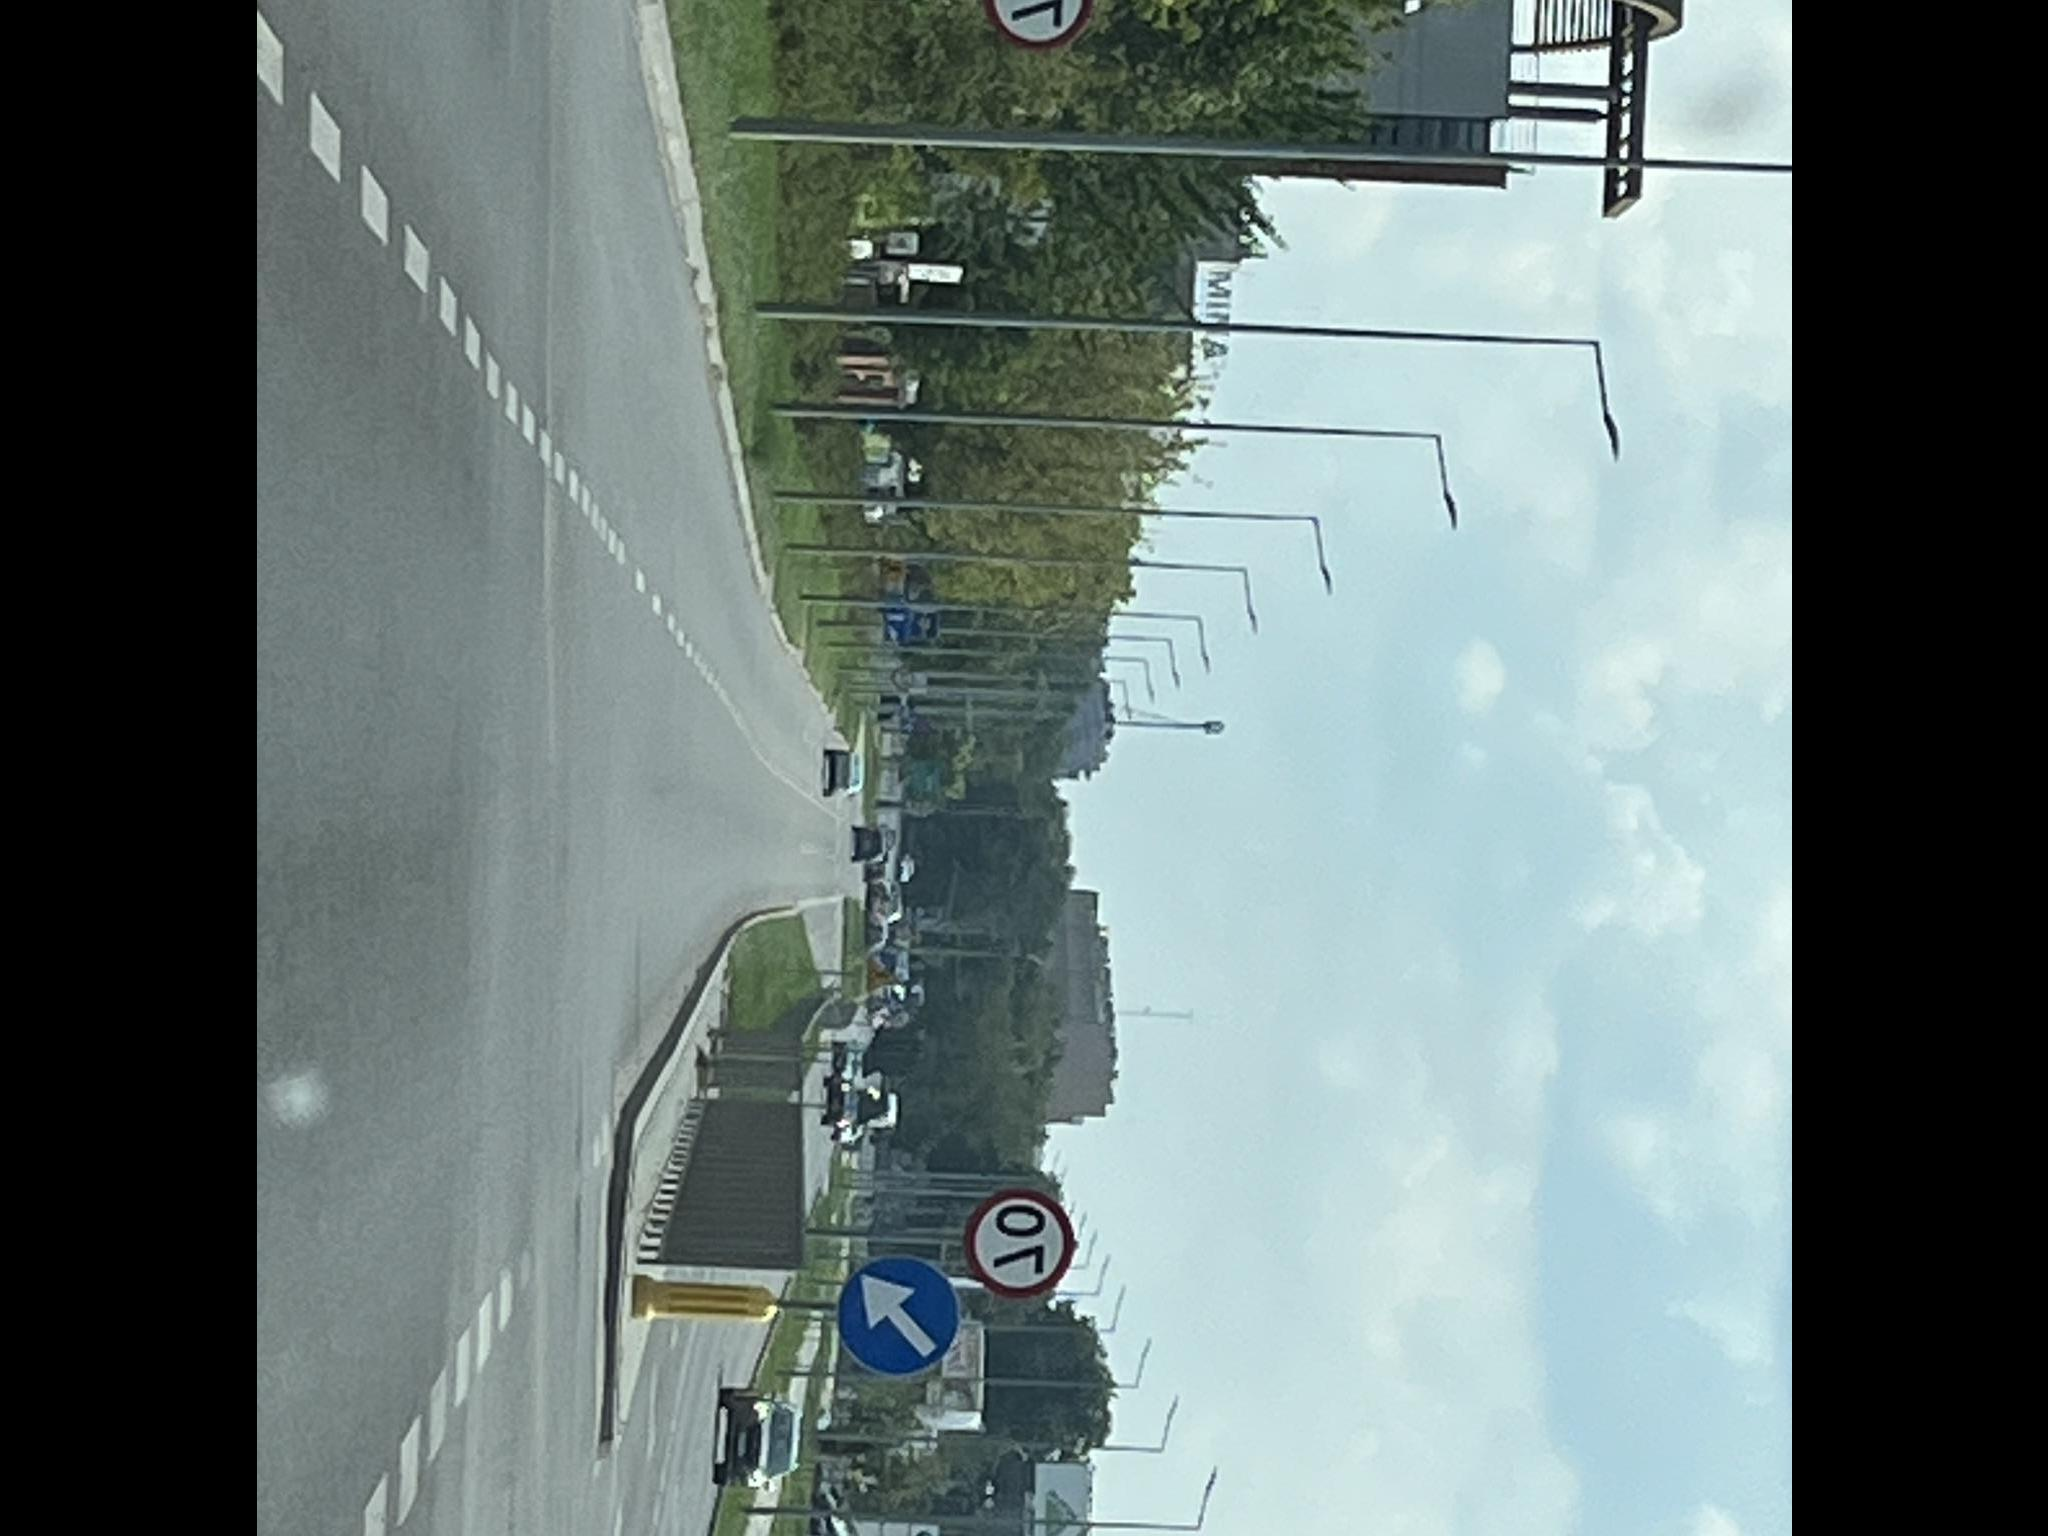mandatory: (834, 1252, 959, 1378)
prohibitory: (963, 1187, 1076, 1299), (980, 0, 1093, 53)
